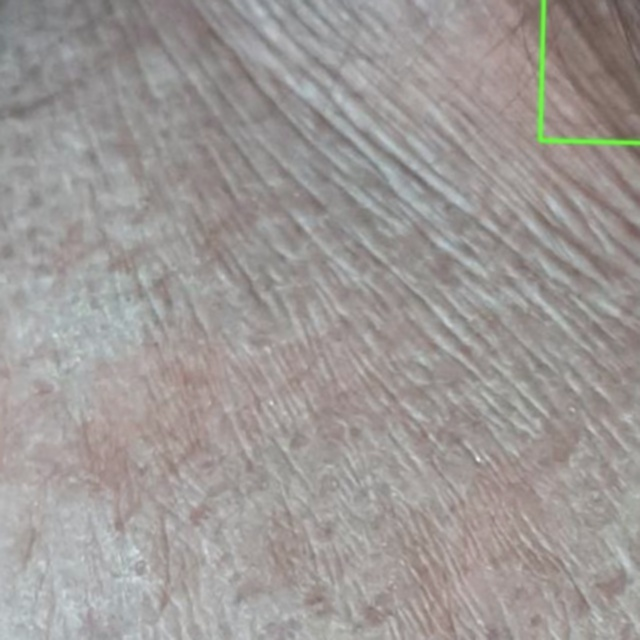Tinea Corporis: (540, 0, 639, 144)
